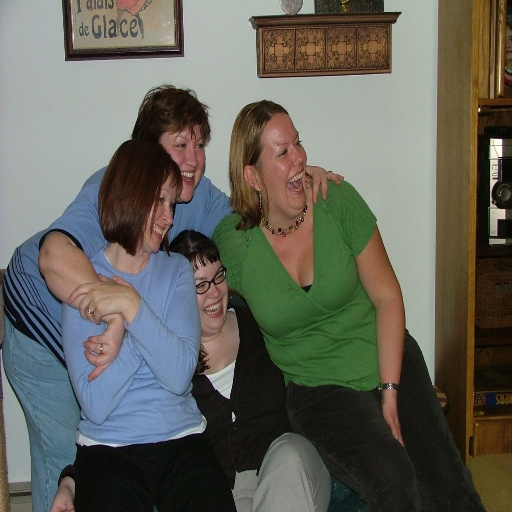hand: (332, 181, 408, 442), (65, 269, 138, 328), (78, 317, 126, 382), (302, 163, 344, 203), (48, 482, 74, 510)
